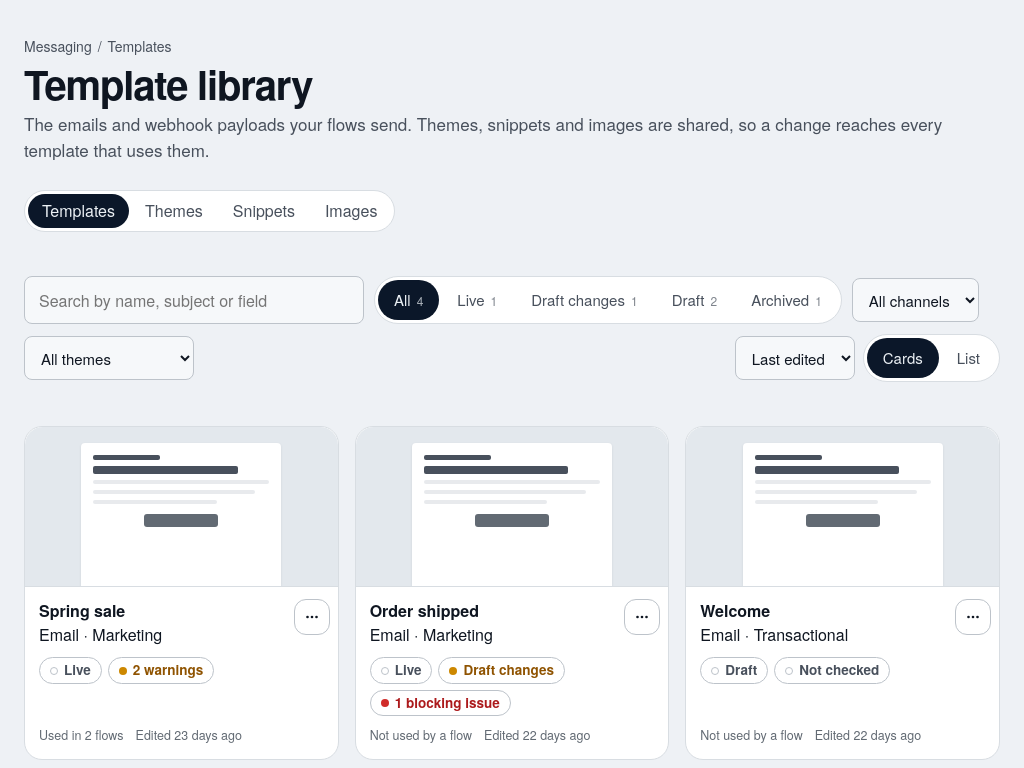
Scenario: the template library › offers a reader no way to make, copy or archive a template
What coordinates should you click on to do the following:
click the button named "Actions for Order shipped"
I would click on:
 (642, 617)
Its box is [624, 599, 660, 635].
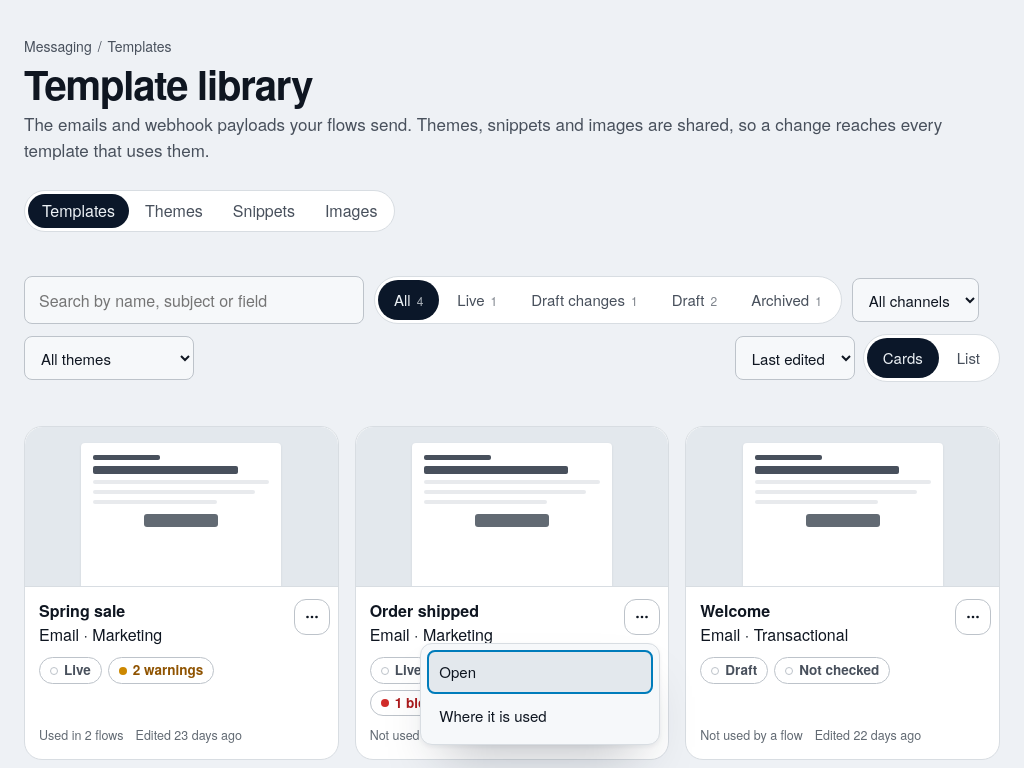
Now the menu item "Open" is shown, box [427, 650, 653, 694]
